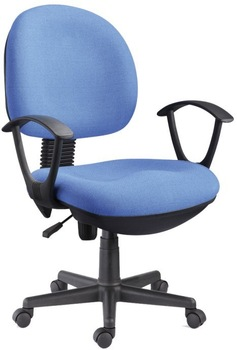chairs: (4, 7, 234, 348)
